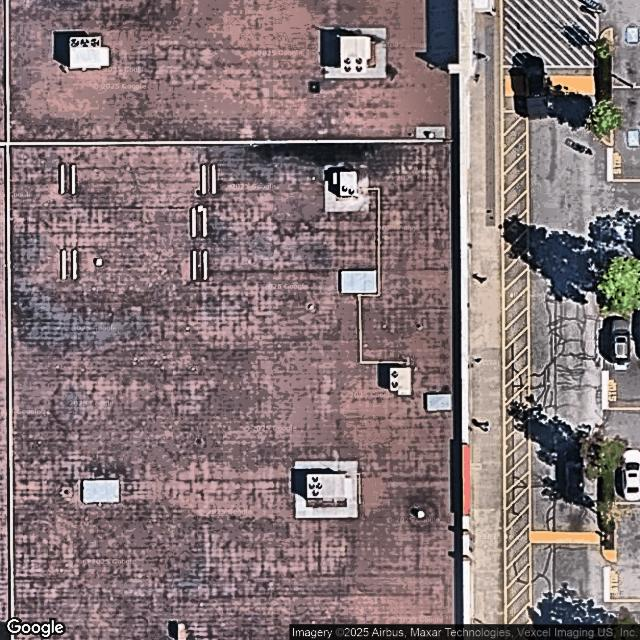car: (607, 316, 633, 364), (621, 450, 640, 502)
lot_boundary: (601, 0, 639, 602)
objects: (598, 439, 616, 560), (595, 29, 611, 147), (599, 316, 607, 368)
stall: (611, 28, 639, 89), (612, 87, 639, 148), (605, 315, 632, 367), (617, 446, 639, 504)
